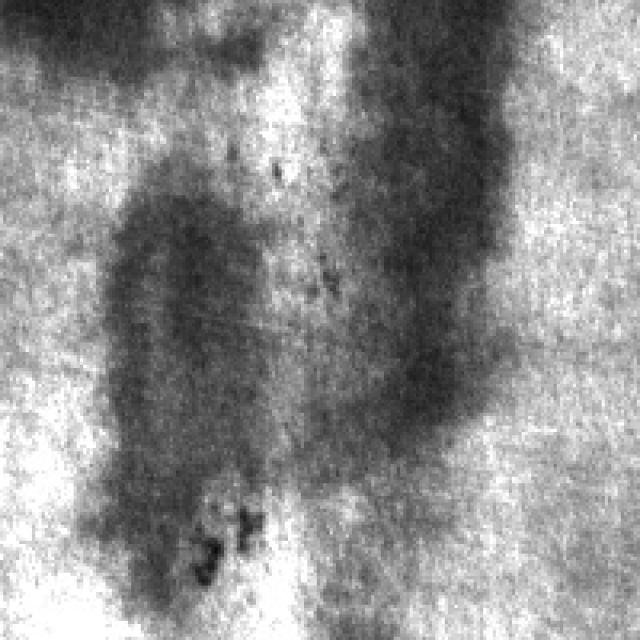patches: (330, 0, 528, 483), (87, 163, 276, 605), (3, 0, 282, 80)
